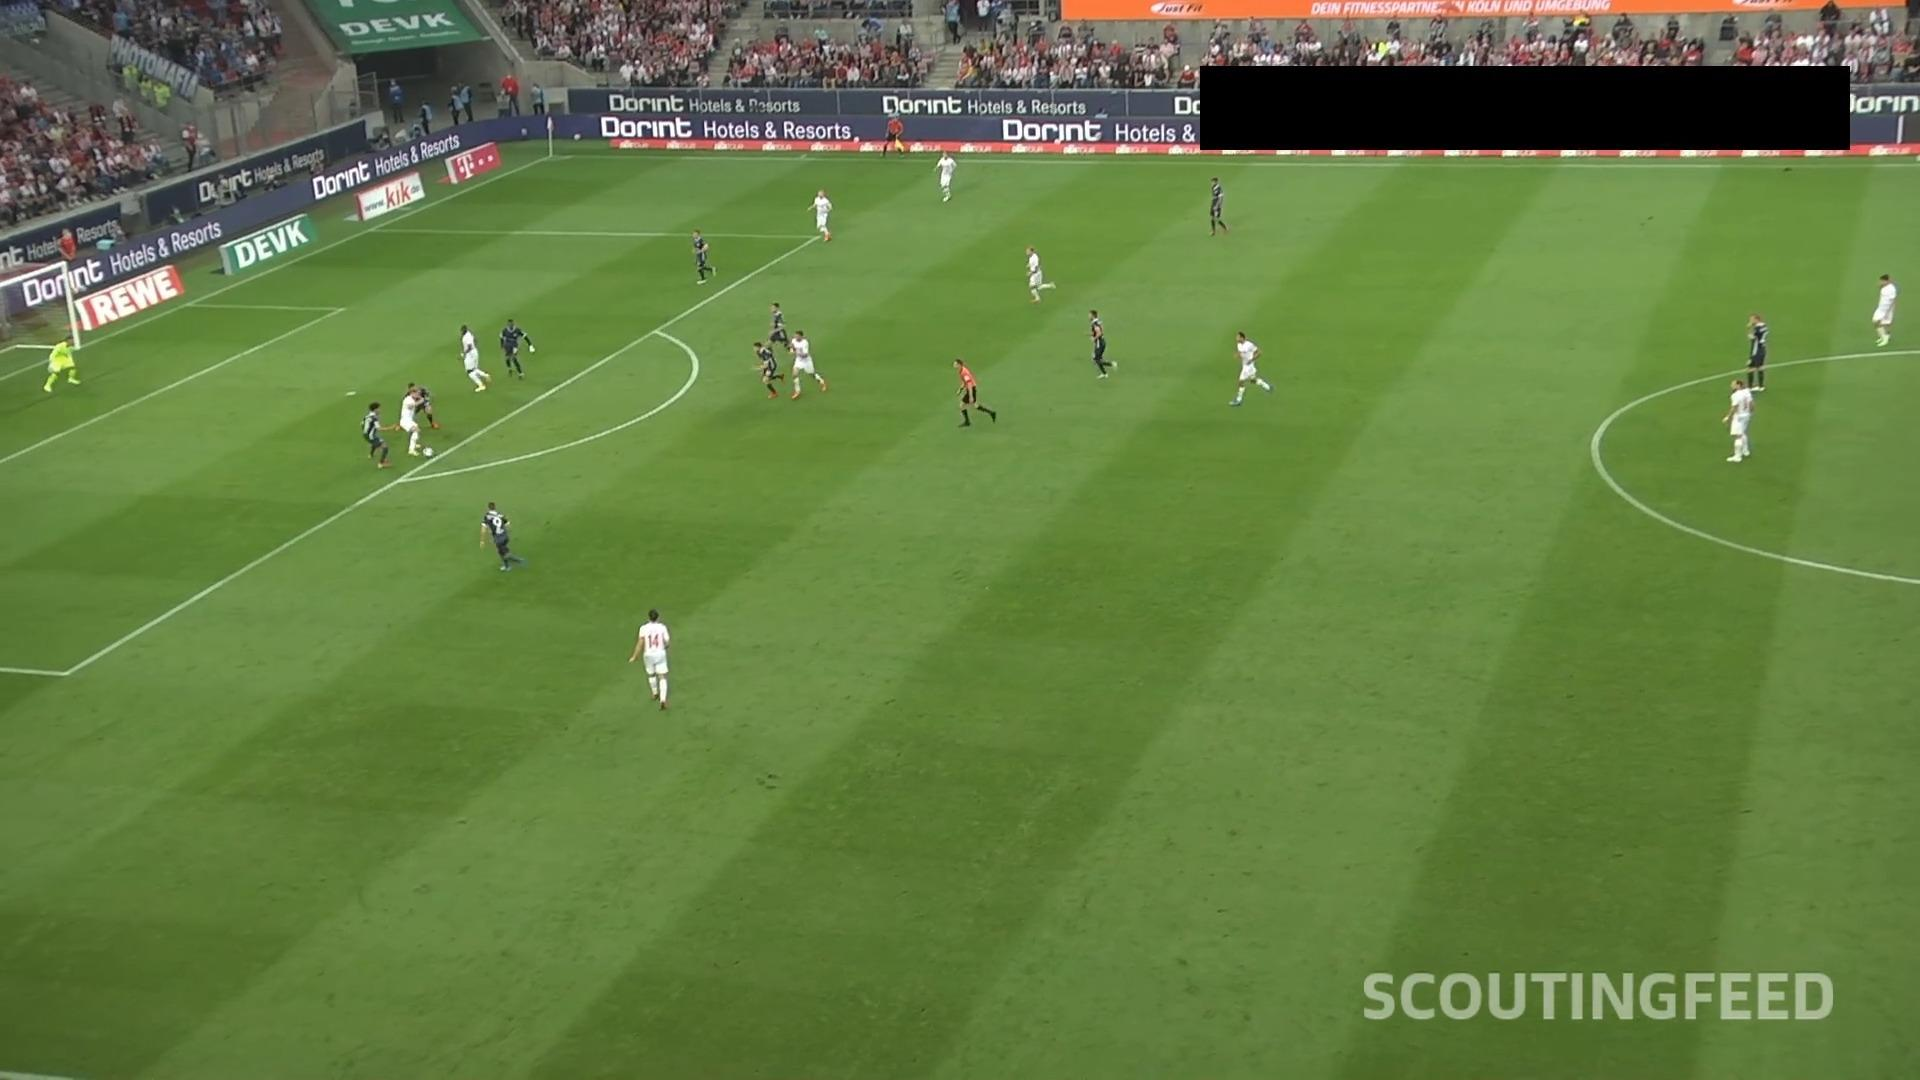ball: (422, 446, 434, 459)
